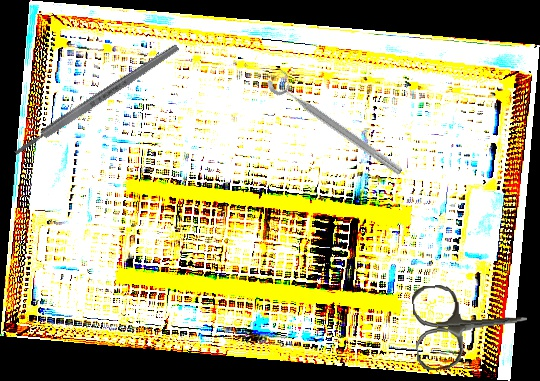Fixation Ring: (264, 66, 411, 179)
Iris Scissors: (411, 277, 531, 372)
Scalpel Handle: (12, 42, 181, 158)
